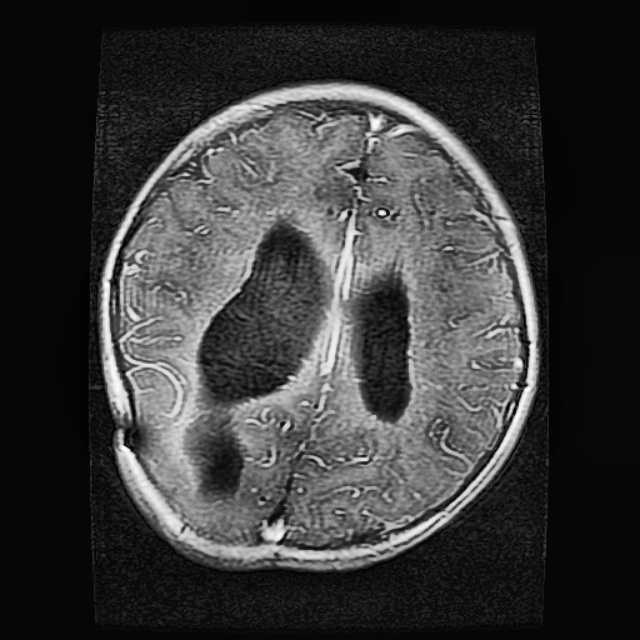Glioma: (187, 408, 244, 495)
